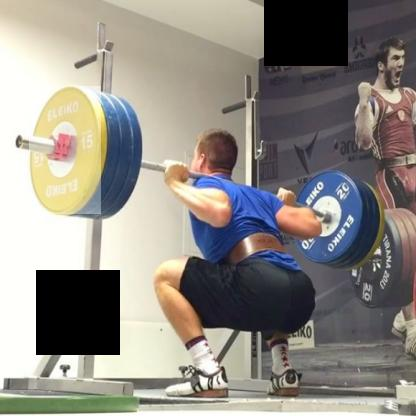barbell: (30, 87, 102, 215), (292, 169, 366, 267)
